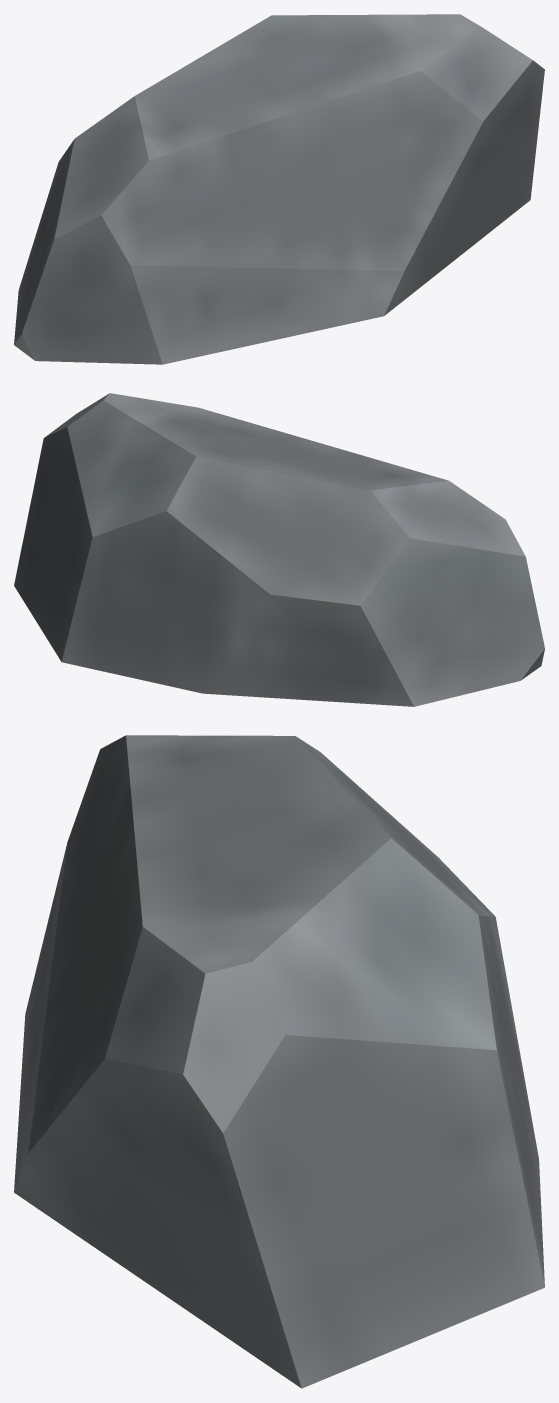
The model's file is rock-5.glb.
The picture shows the model from 3 angles, top to bottom: view 1: azimuth 30°, elevation 25°; view 2: azimuth 150°, elevation 25°; view 3: azimuth 270°, elevation 25°; orthographic projection. The views are drawn at different scales.
Parts seen in each view (by area): view 1: model; view 2: model; view 3: model.
Part boxes in pixels (bbox=[...]): model: bbox=[14, 14, 544, 364]; model: bbox=[14, 393, 544, 706]; model: bbox=[14, 735, 544, 1388].
Bounding box in the file's own units: 0.255 × 0.098 × 0.129.
1 material, 1 textured.
